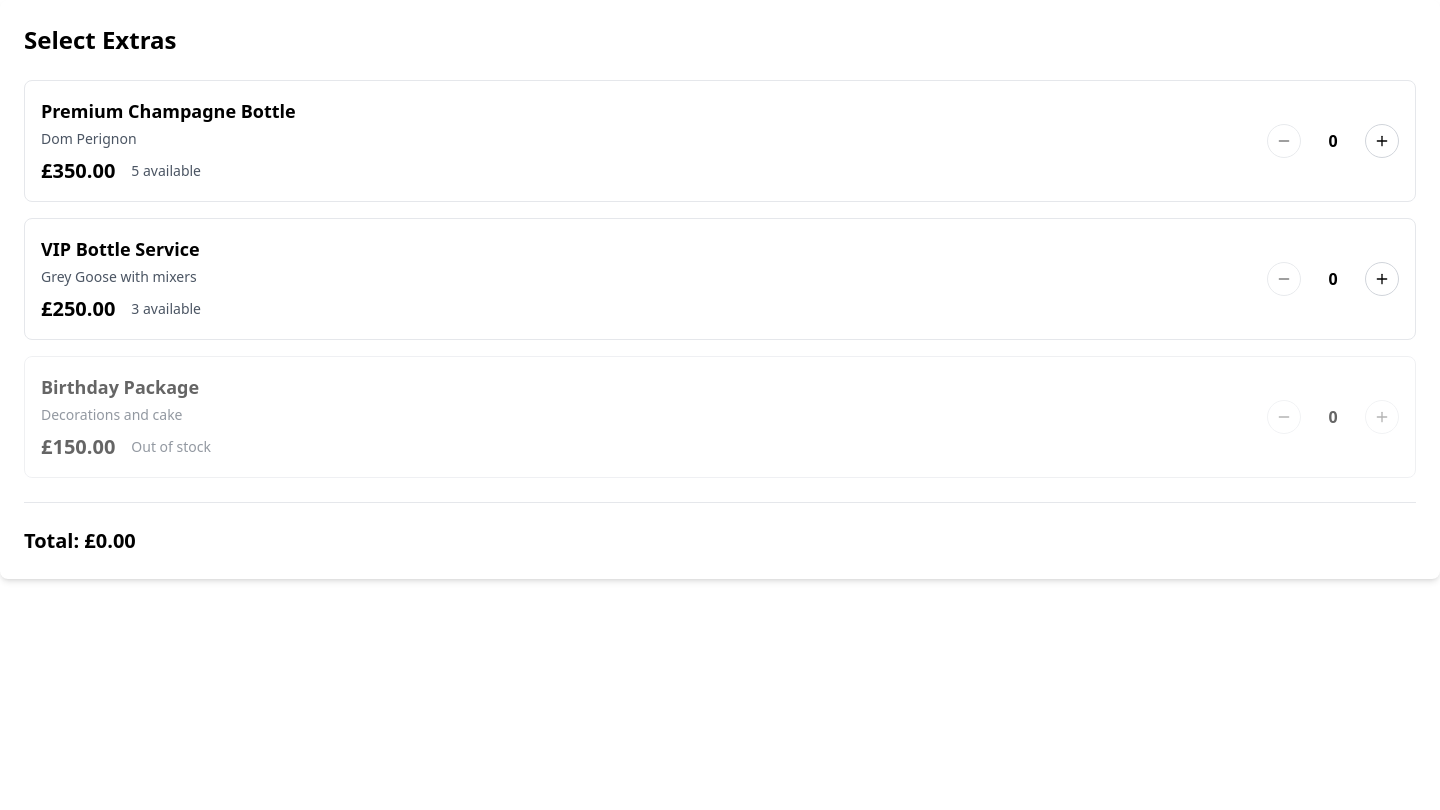
it: ExtraSelection Component › Quantity Controls › should increment quantity when plus button clicked
Check: the heading "Premium Champagne Bottle" is shown, box [41,99,296,123]
Click the button named "increase quantity".
click(1382, 141)  # box [1365,124,1399,158]
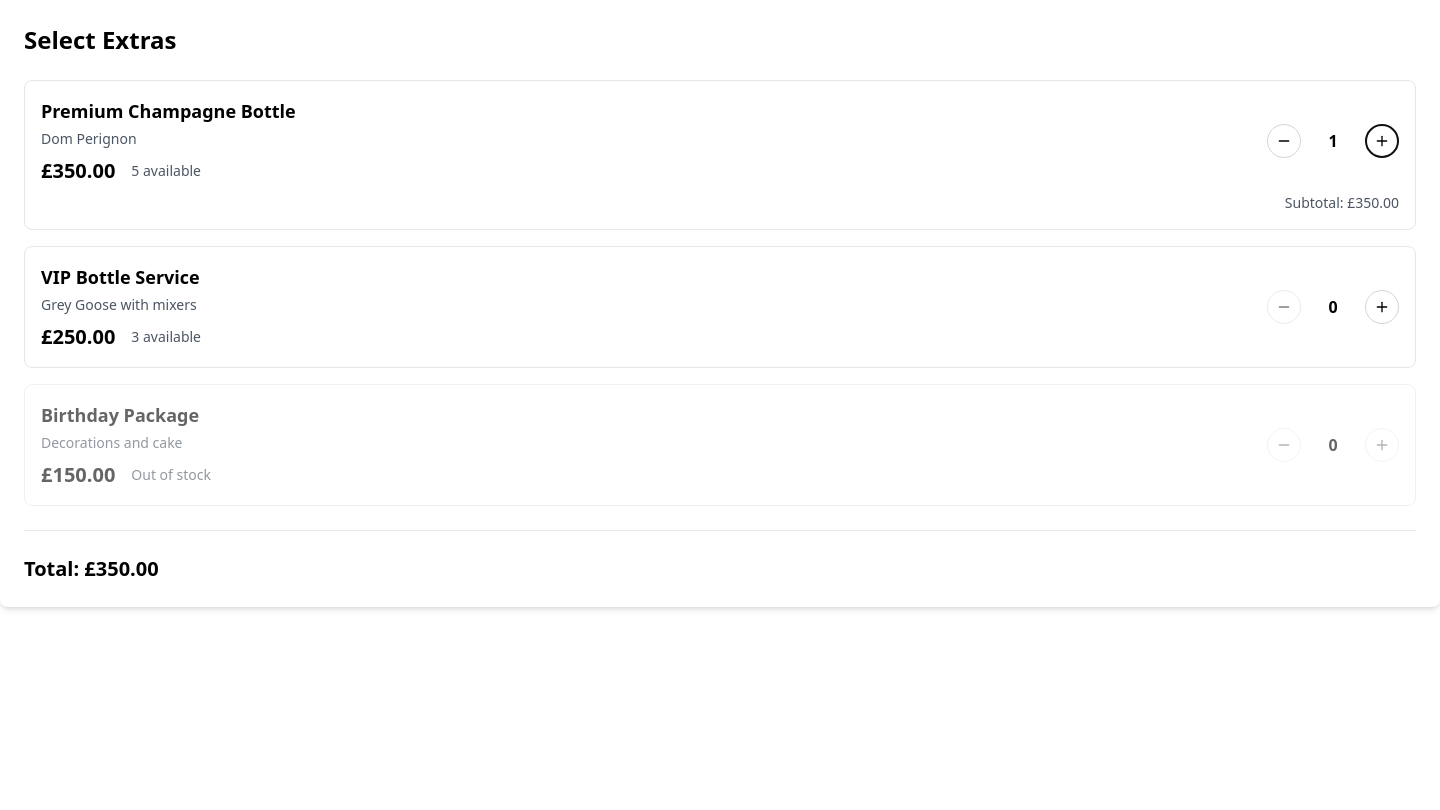
Check: the text with test id "quantity-1" reads "1", box [1328,130,1338,152]
